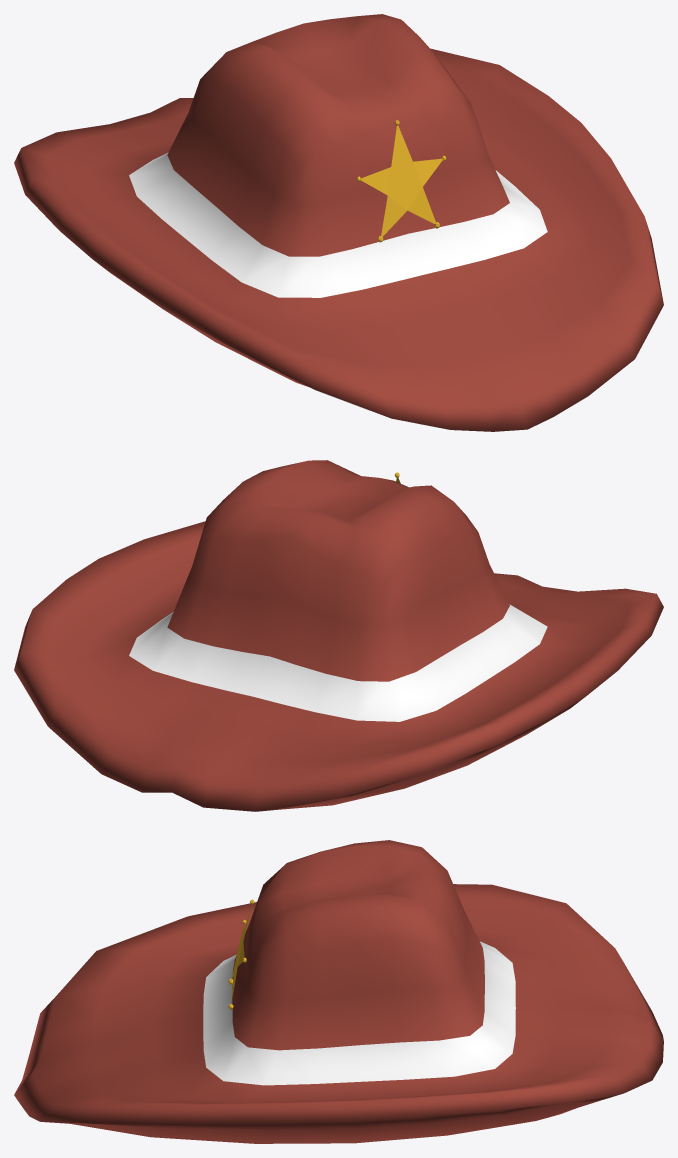
The model's file is HumanoidSkin_2_Cowboy.fbx.
3 renders of one model, top to bottom at view 1: azimuth 30°, elevation 25°; view 2: azimuth 150°, elevation 25°; view 3: azimuth 270°, elevation 25°, orthographic. The views are drawn at different scales.
Parts seen in each view (by area): view 1: CowboyHat; view 2: CowboyHat; view 3: CowboyHat.
Boxes of the visible parts, x1,y1,x2,y2 form: CowboyHat: (14,14,663,431); CowboyHat: (14,460,663,811); CowboyHat: (14,840,663,1143).
Bounding box in the file's own units: 471 × 233 × 587.
